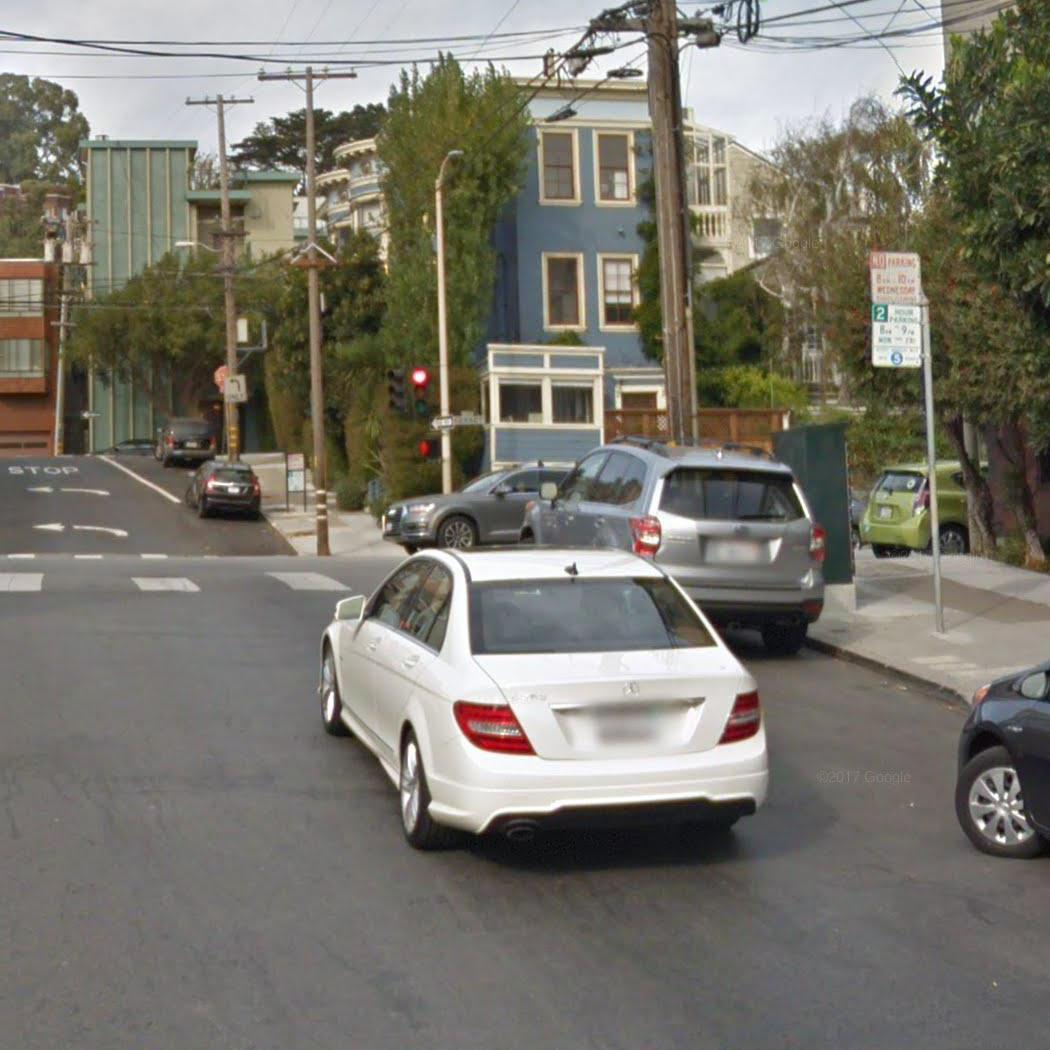2 Hour Parking: (868, 299, 926, 373)
No Parking: (865, 245, 924, 305)
